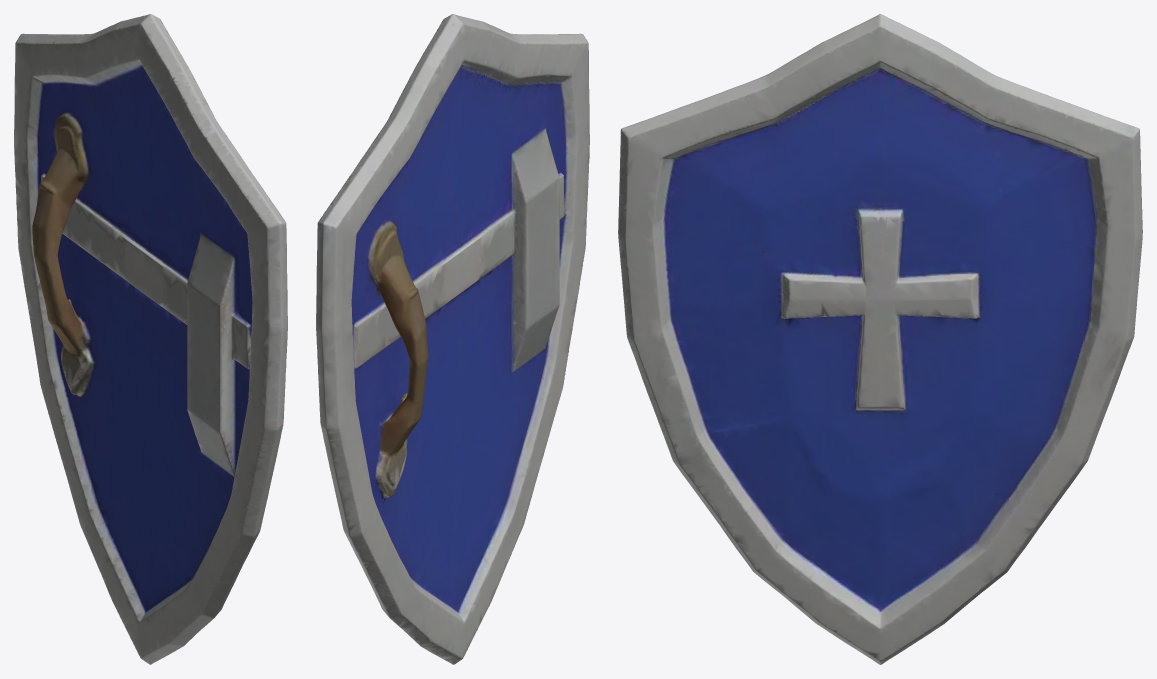
The model's file is w_footman_shield.glb.
3 renders of one model, left to right at view 1: azimuth 30°, elevation 25°; view 2: azimuth 150°, elevation 25°; view 3: azimuth 270°, elevation 25°, orthographic.
Visible parts, largest first — view 1: tripo_node_2372659d-f621-4214-8902-3fea19c08740; view 2: tripo_node_2372659d-f621-4214-8902-3fea19c08740; view 3: tripo_node_2372659d-f621-4214-8902-3fea19c08740.
Part boxes in pixels (bbox=[...]): tripo_node_2372659d-f621-4214-8902-3fea19c08740: bbox=[14, 14, 287, 664]; tripo_node_2372659d-f621-4214-8902-3fea19c08740: bbox=[316, 14, 589, 664]; tripo_node_2372659d-f621-4214-8902-3fea19c08740: bbox=[618, 14, 1142, 664].
Size of the model in its own units: 0.105 by 1 by 0.7306.
Materials: 1 (1 with a texture image).
